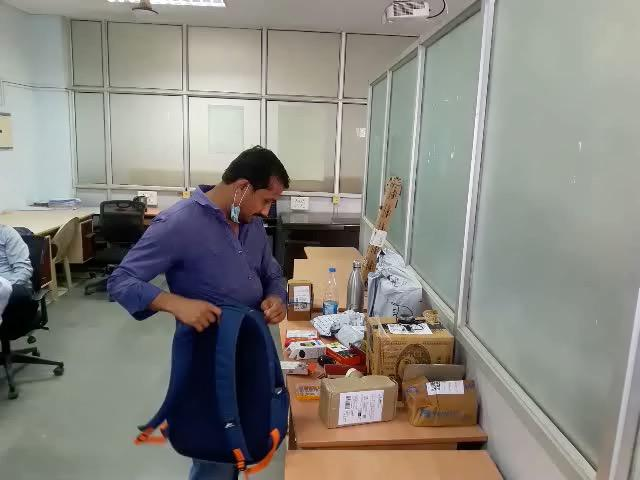shoplifting: (119, 263, 326, 422)
